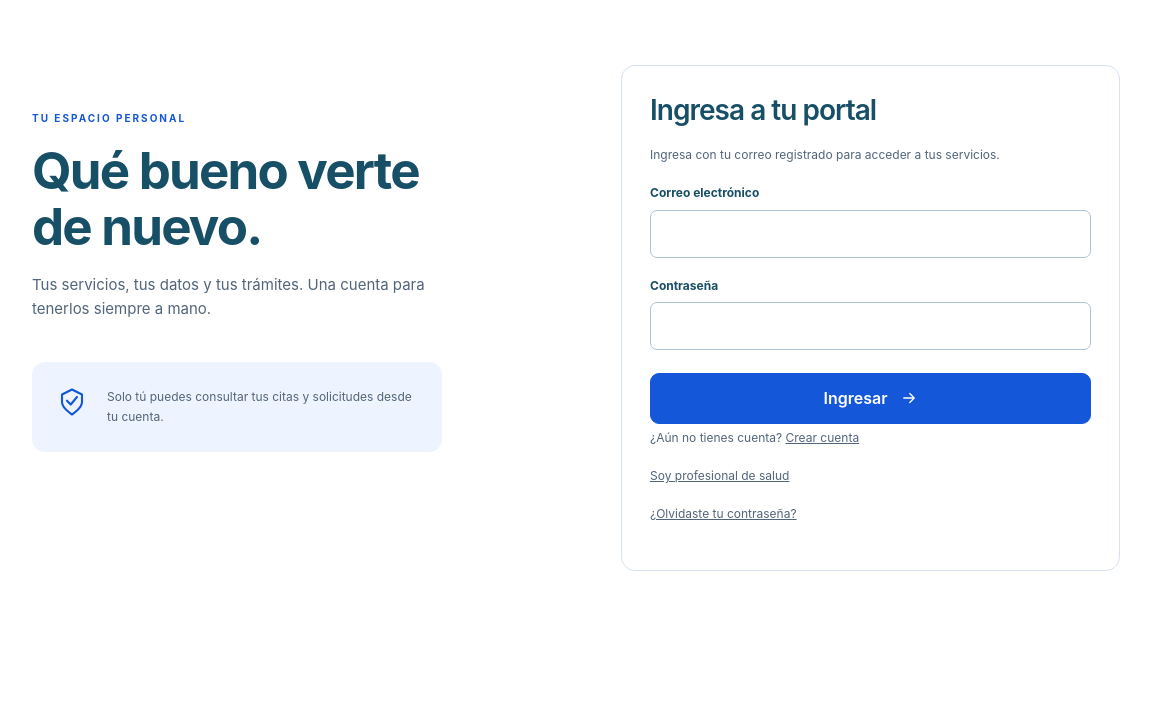
Test case: una cuenta pendiente no abre sesión y permite solicitar otro enlace
Type "persona@example.test" into the field labelled "Correo electrónico" at (870, 234), box [650,210,1091,258]
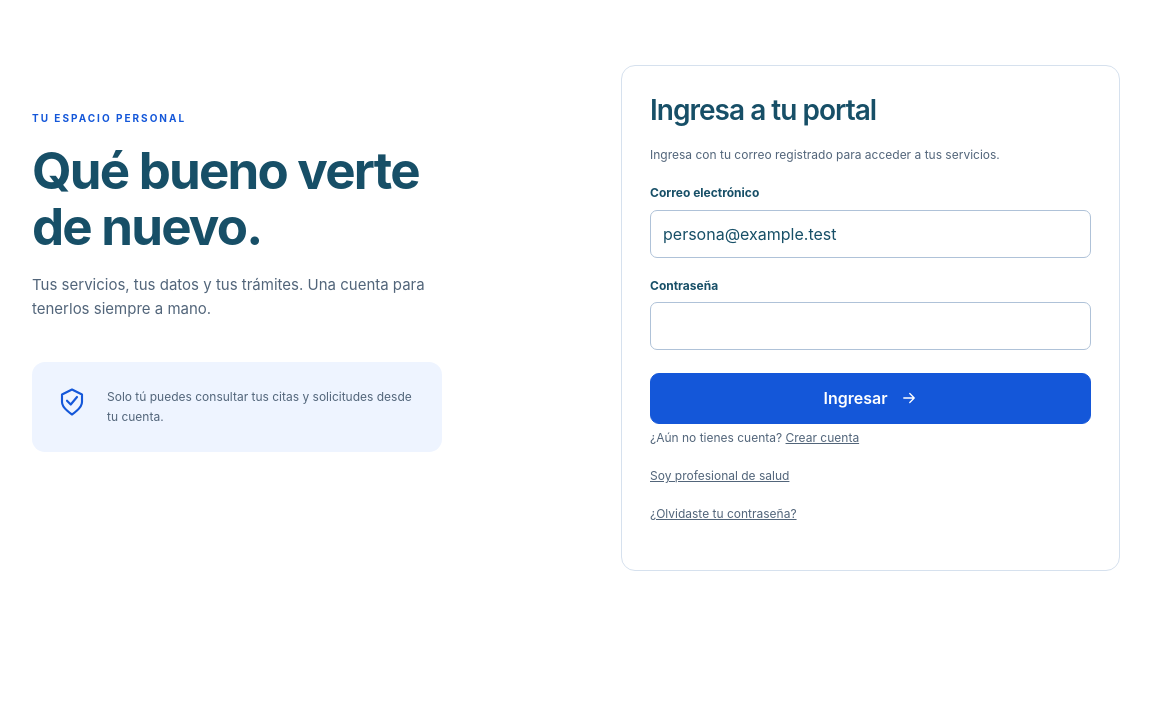
Type "Prueba123!" into the password field labelled "Contraseña" at (870, 326), box [650,302,1091,350]
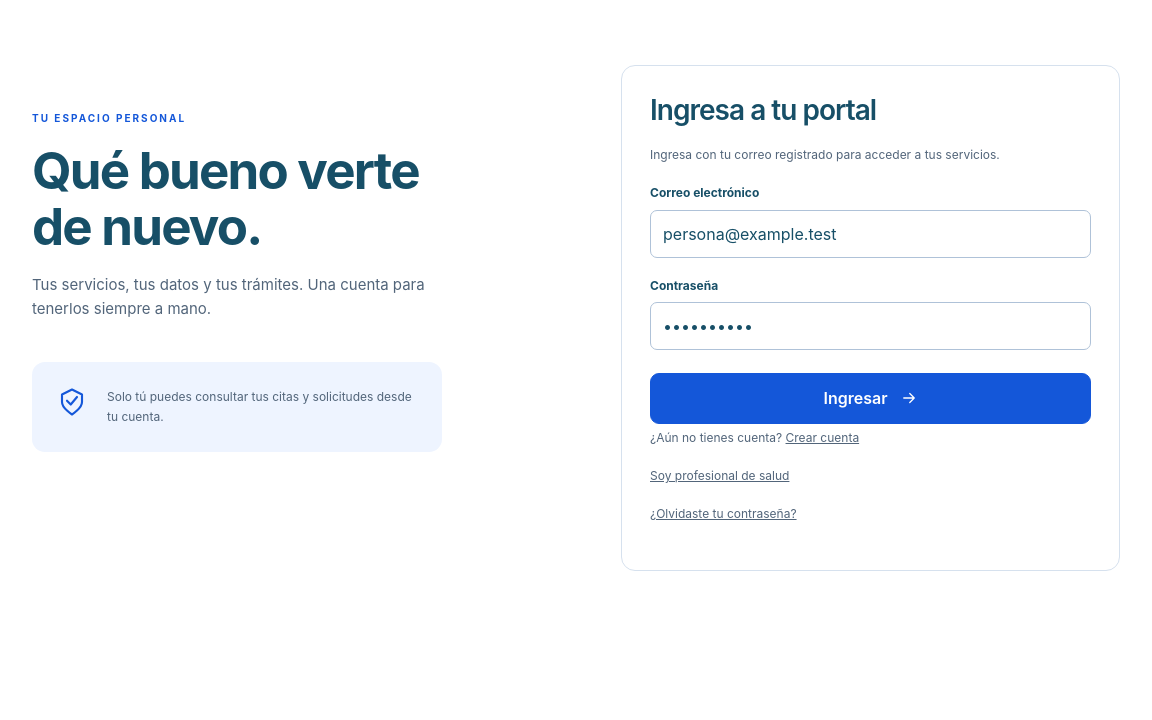
Click the button "Ingresar" at (870, 398), box [650,373,1091,424]
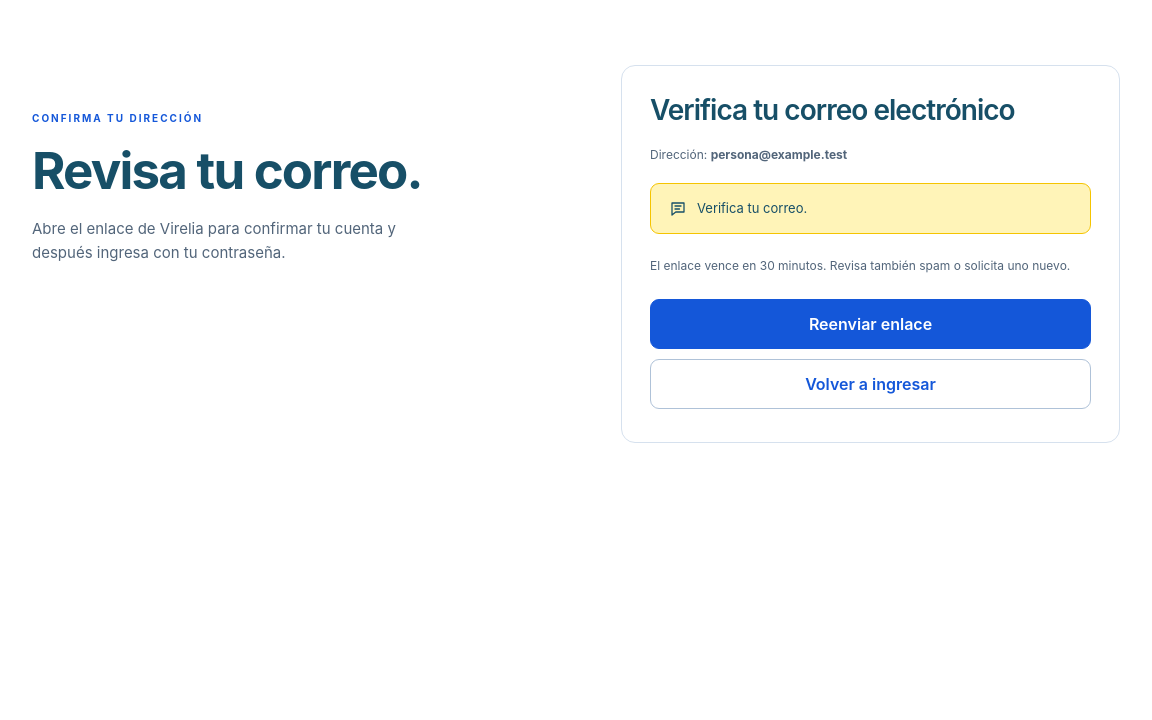
expect the heading "Verifica tu correo electrónico" is shown: met, box [650,93,1015,127]
Click the button "Reenviar enlace" at (870, 324), box [650,299,1091,349]
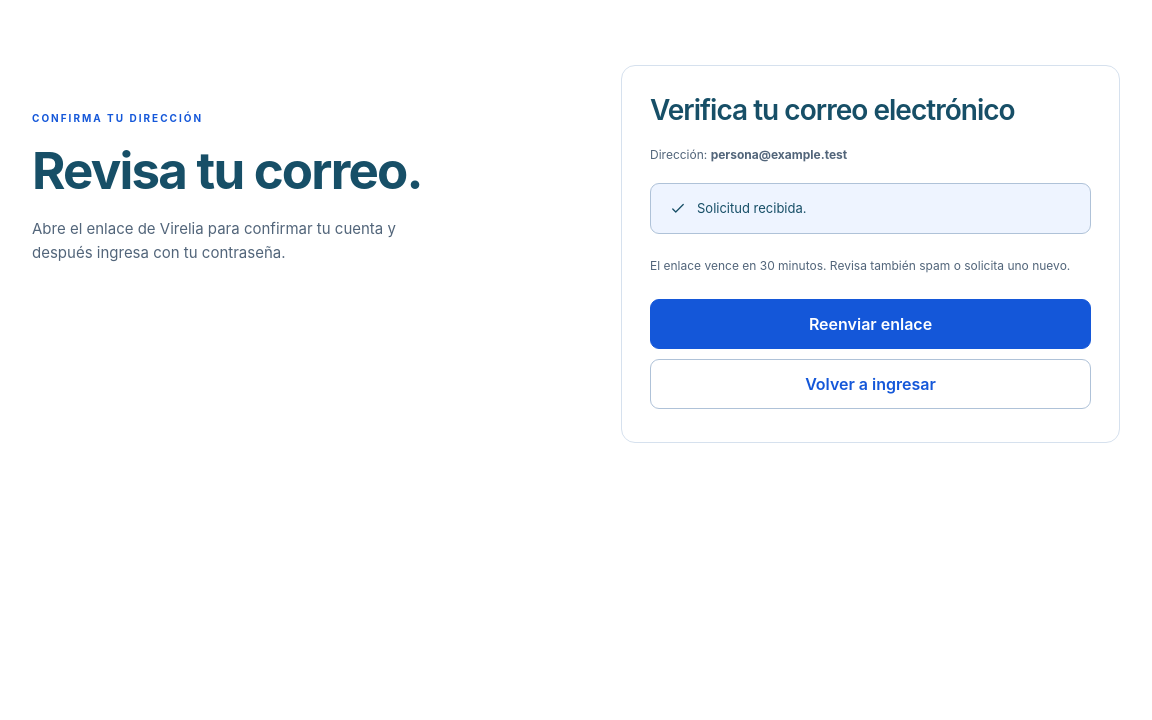
expect the text "Solicitud recibida." is shown: met, box [697,198,806,219]
